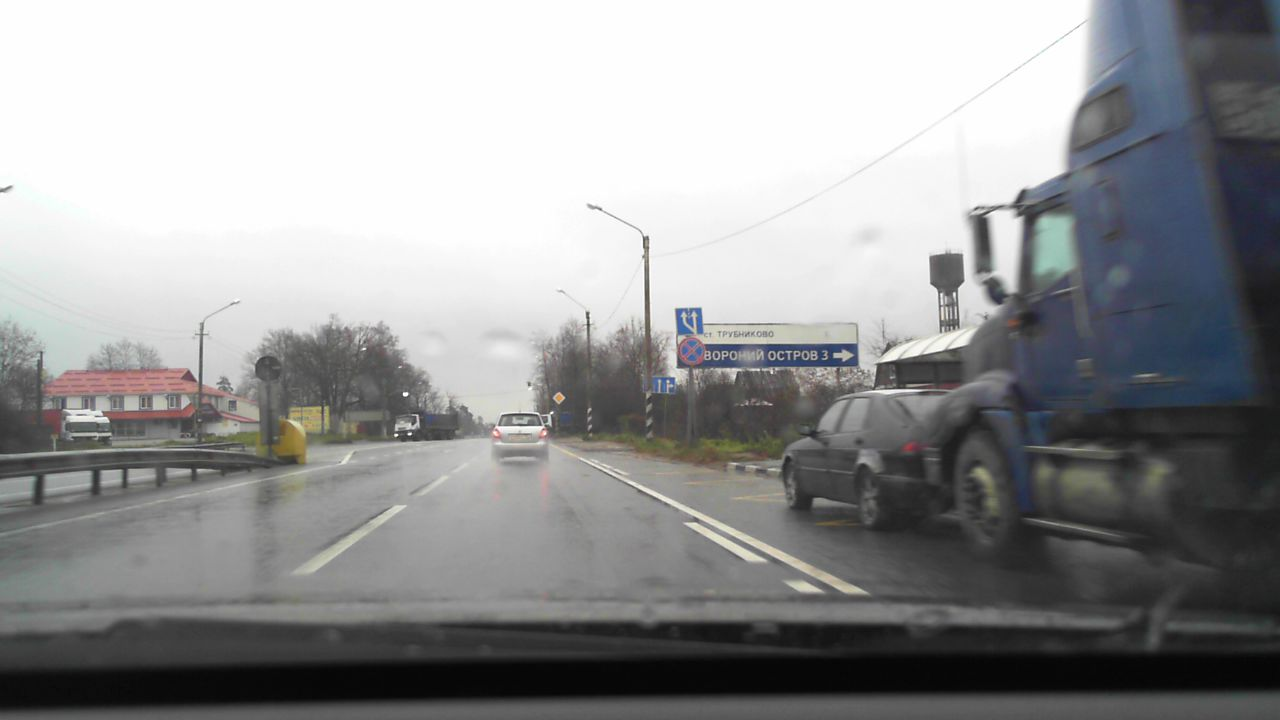No Parking: (677, 337, 705, 366)
